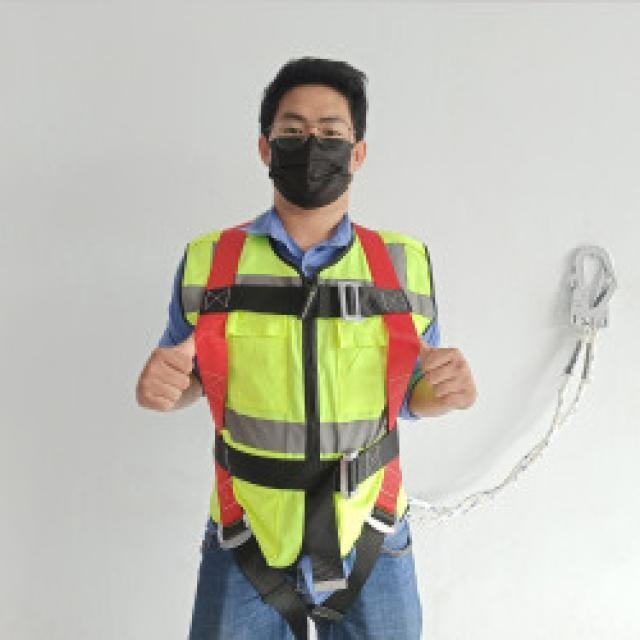Arnes_seguridad: (195, 223, 421, 623)
